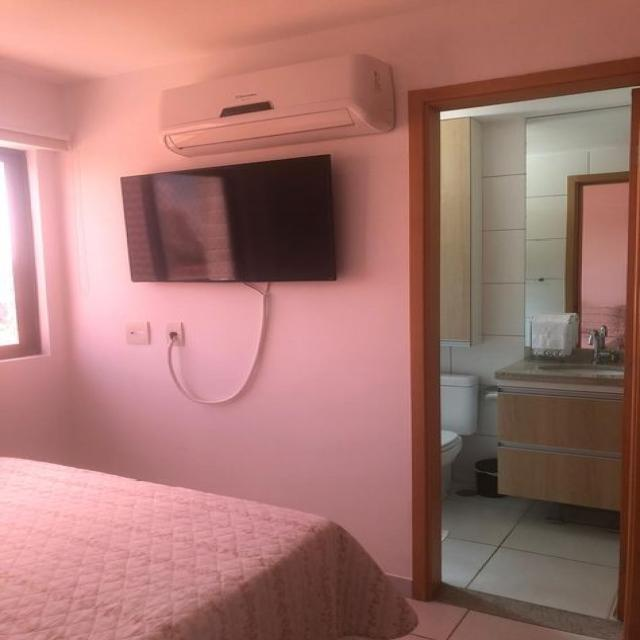AC: (159, 54, 393, 158)
AIO PC-Monitor-TV: (119, 152, 337, 284)
